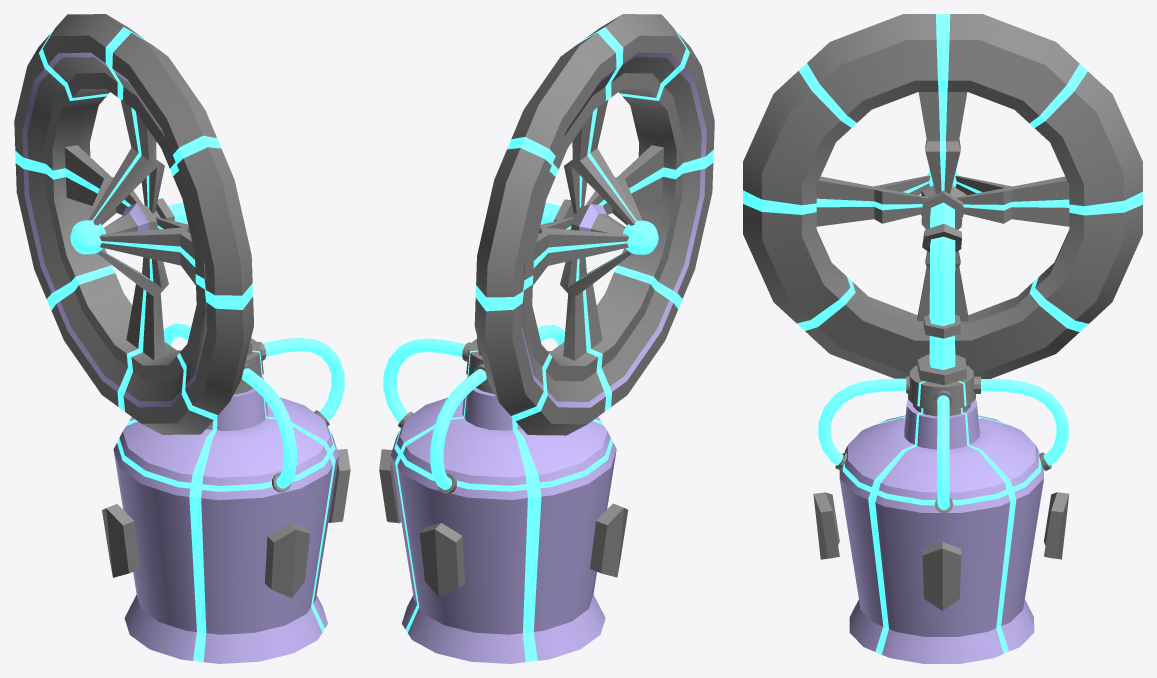
File: zvukhlaveň.fbx
3 renders of one model, left to right at view 1: azimuth 30°, elevation 25°; view 2: azimuth 150°, elevation 25°; view 3: azimuth 270°, elevation 25°, orthographic. The views are drawn at different scales.
Visible parts, largest first — view 1: Circle.001, Circle; view 2: Circle.001, Circle; view 3: Circle.001, Circle.
Part boxes in pixels (x1,y1,x2,y2): Circle.001: (14, 14, 253, 434); Circle: (102, 323, 350, 663); Circle.001: (474, 14, 714, 435); Circle: (379, 324, 628, 663); Circle.001: (743, 14, 1142, 384); Circle: (813, 365, 1069, 663).
Bounding box in the file's own units: 376 × 804 × 514.
